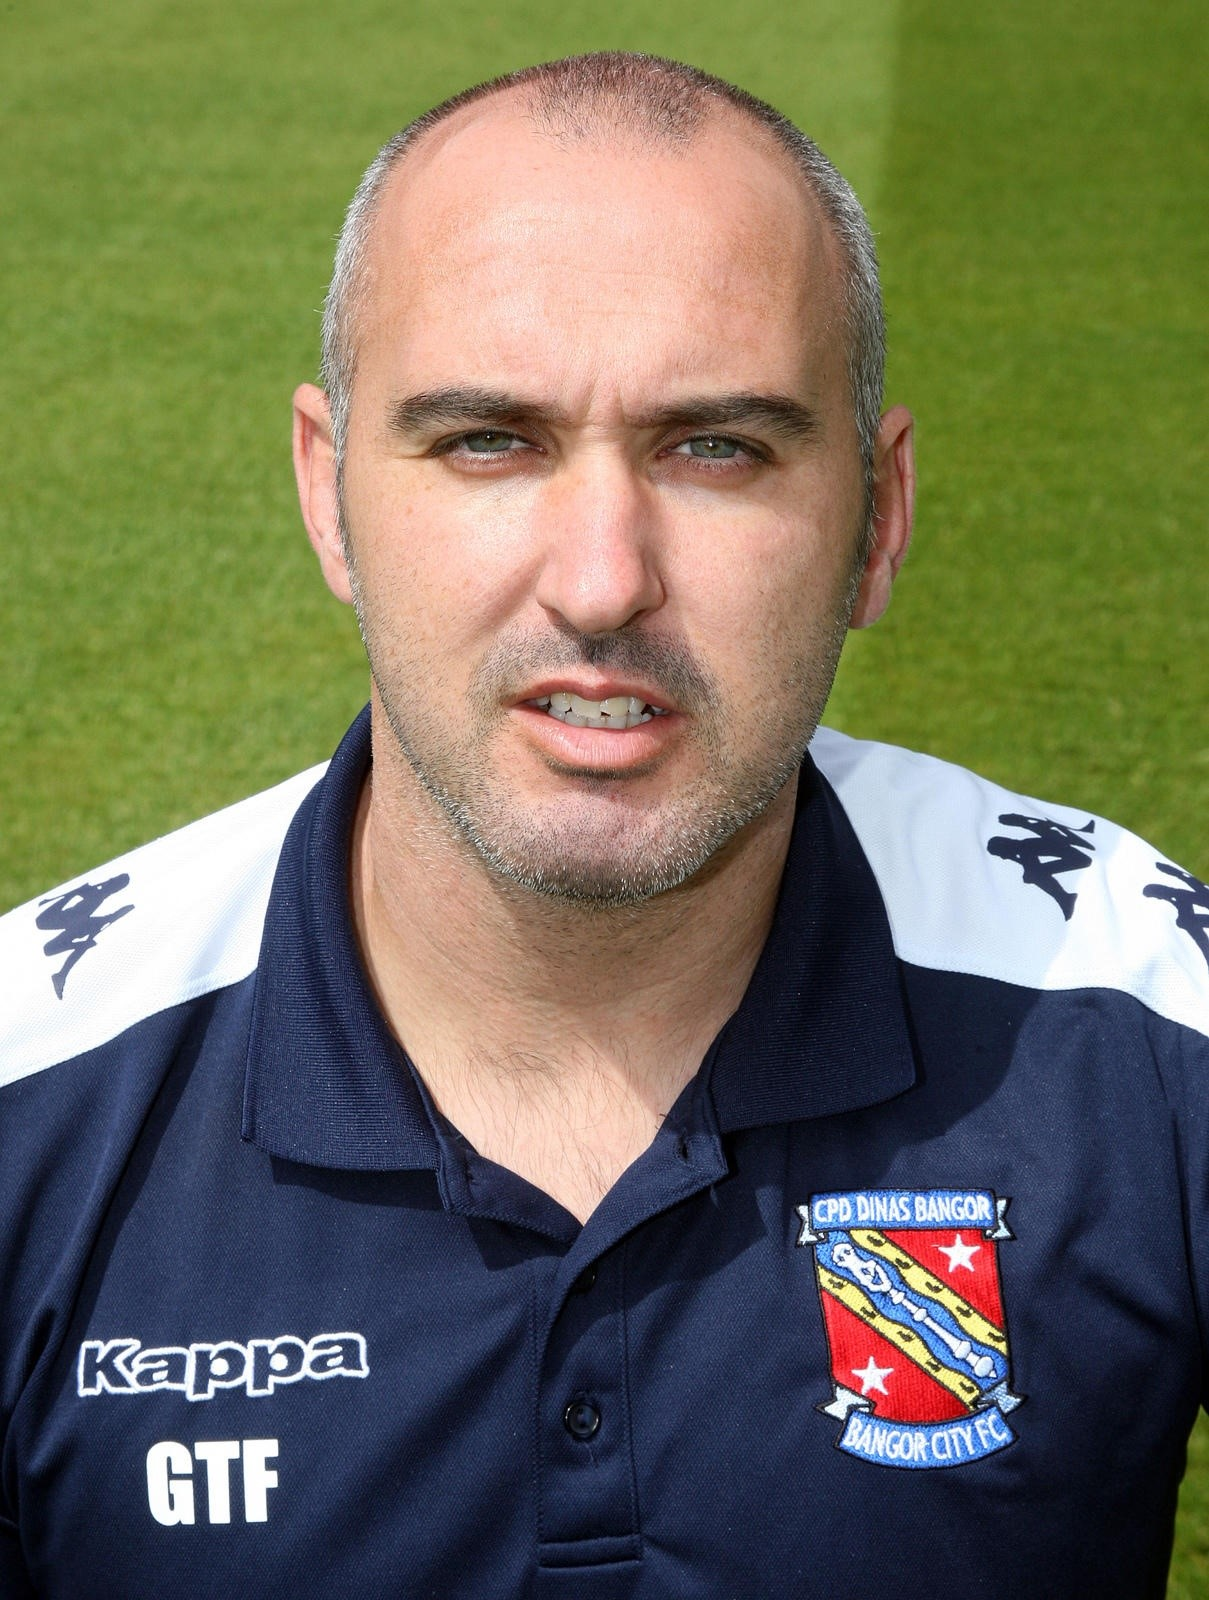face_no_mask: (293, 56, 919, 897)
